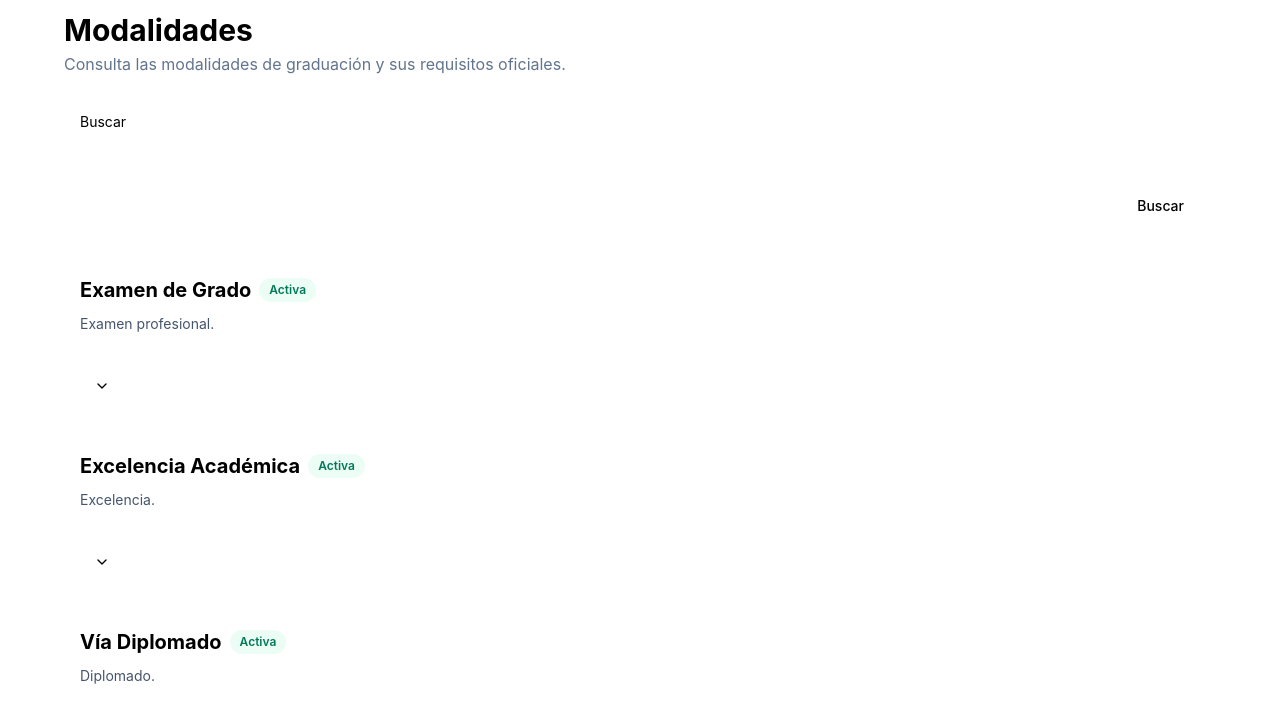
Test: conserva Ver y Descargar como iconos con nombres accesibles para cada documento
This screenshot has width=1280, height=717.
Later steps or results of the test are not shown.
Click the button named "Documentos oficiales (2)" below "Examen profesional.". click: [102, 386]
box: [80,364,124,408]
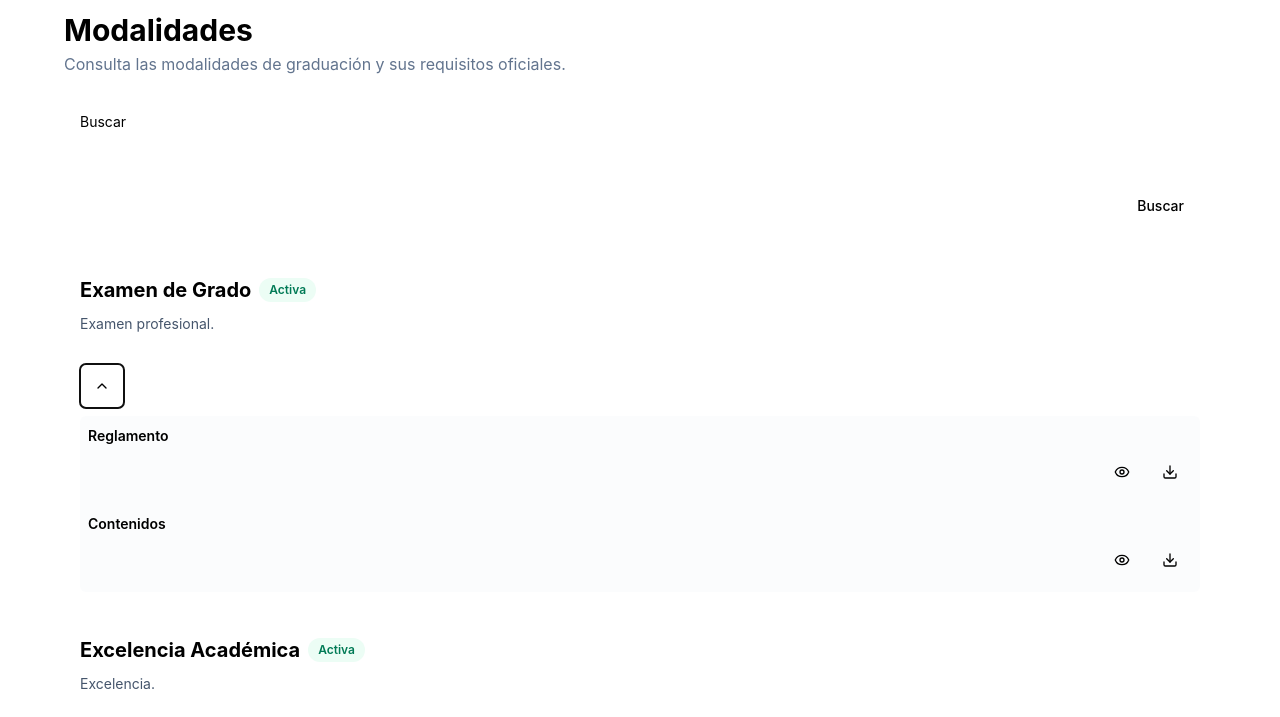
Now the button named "Ver Contenidos" is empty, box [1100,538,1144,582]
Now the button named "Descargar Contenidos" is empty, box [1148,538,1192,582]
